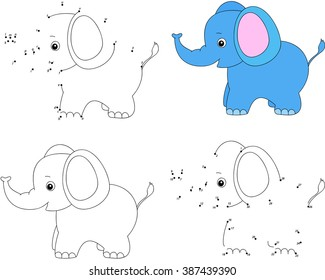elephant: (172, 1, 325, 121), (1, 144, 155, 261)
